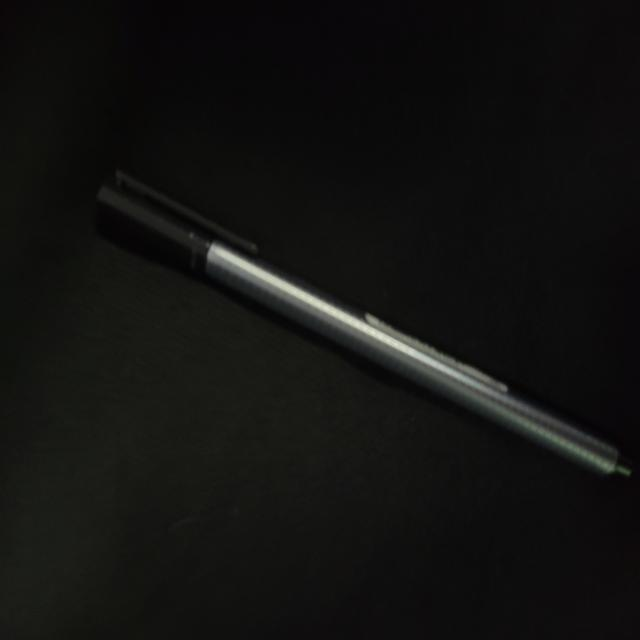caneta: (90, 149, 638, 514)
